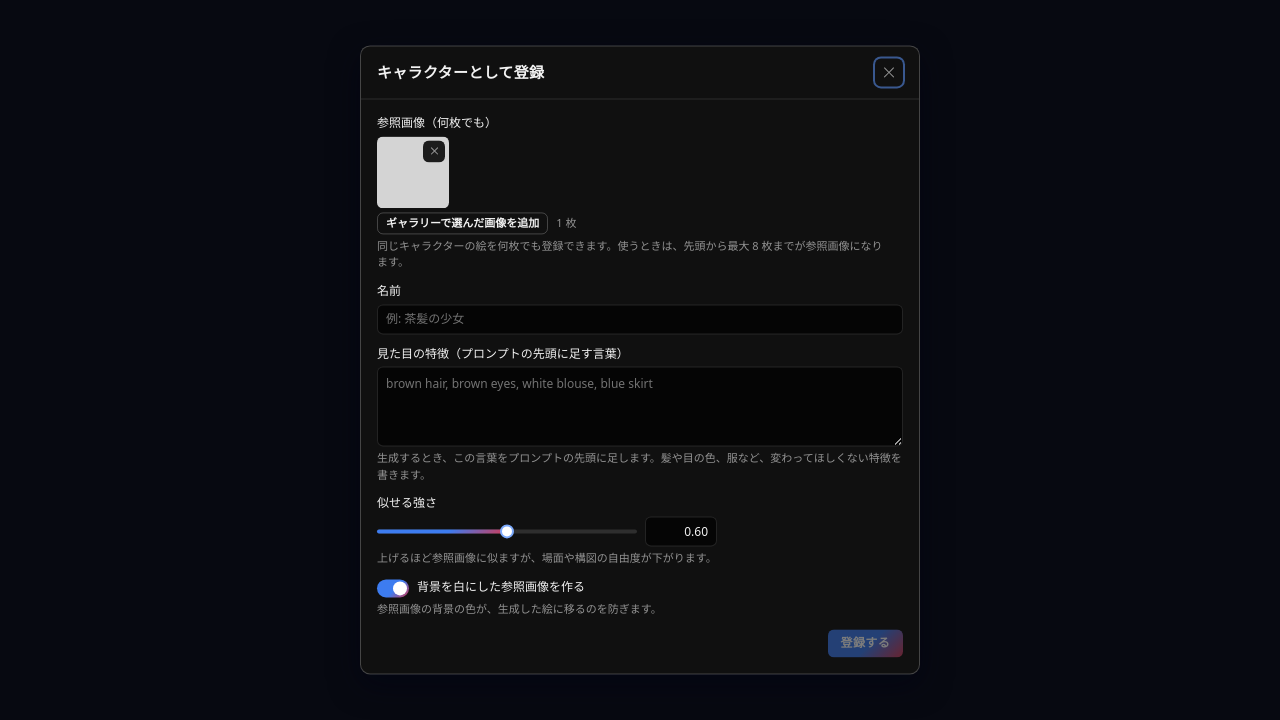
Test: register a character › stays closed until a picture is chosen, and needs a name before it can save
Check: the button with test id "character-save" is disabled, box [828,630,903,658]
Type "Mia" into the field with test id "character-name" at coordinates (640, 319), box [377,304,903,334]
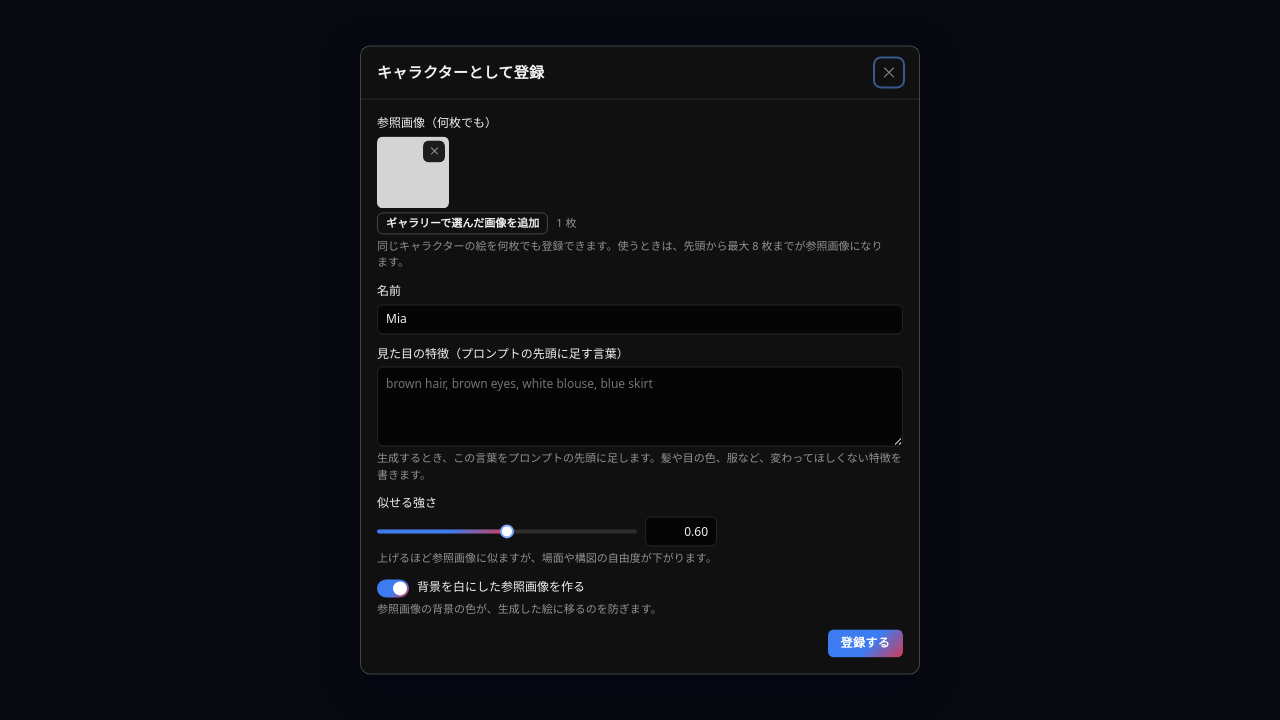
Check: the button with test id "character-save" is enabled, box [828,630,903,658]
